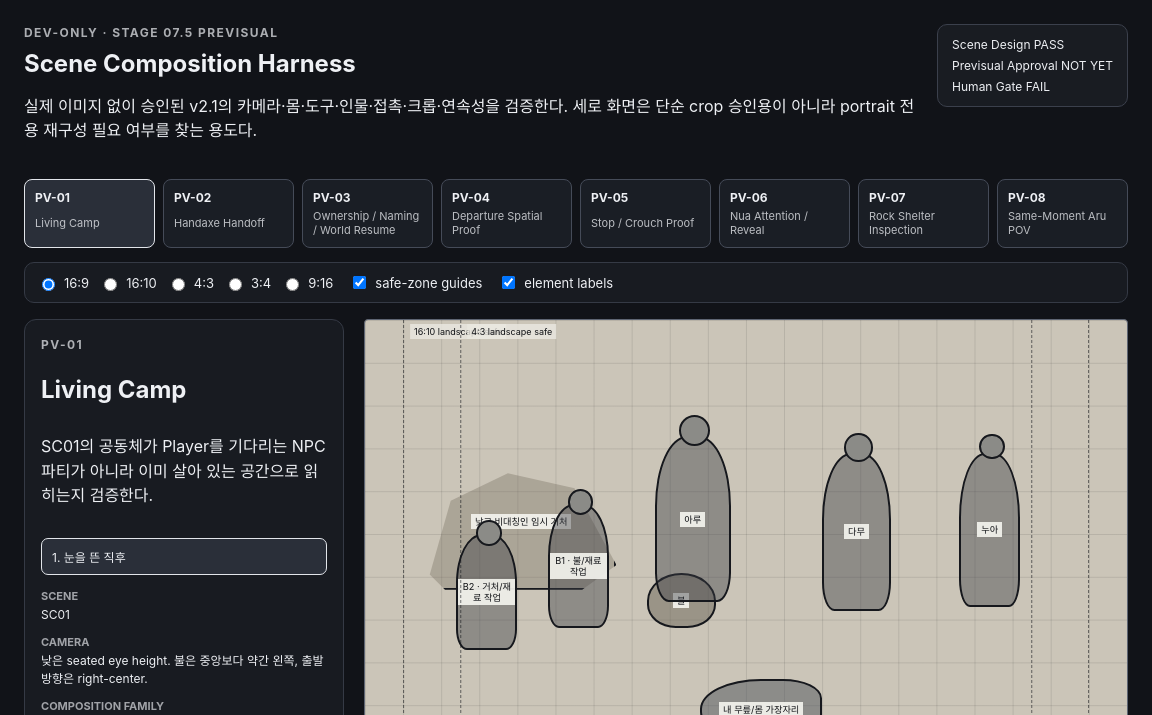
Test case: Stage075PrevisualHarness › keeps Damu stop and player crouch as separate causal frames
The width and height of the screenshot is (1152, 715).
Click the button with test id "previsual-case-PV-05" at {"x": 646, "y": 214}, box [580,179,711,248]
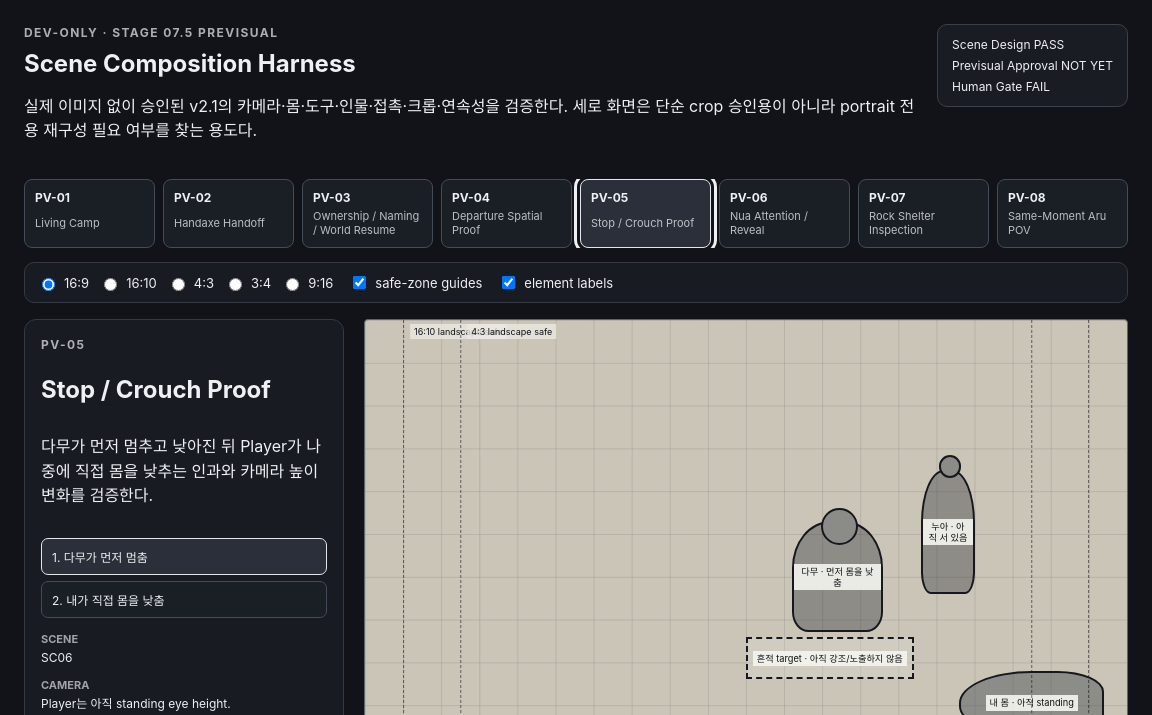
Now the text "Player는 아직 standing eye height." is shown, box [41,696,231,711]
Click the button with test id "previsual-frame-pv05-player-crouch" at {"x": 115, "y": 601}, box [41,581,327,618]
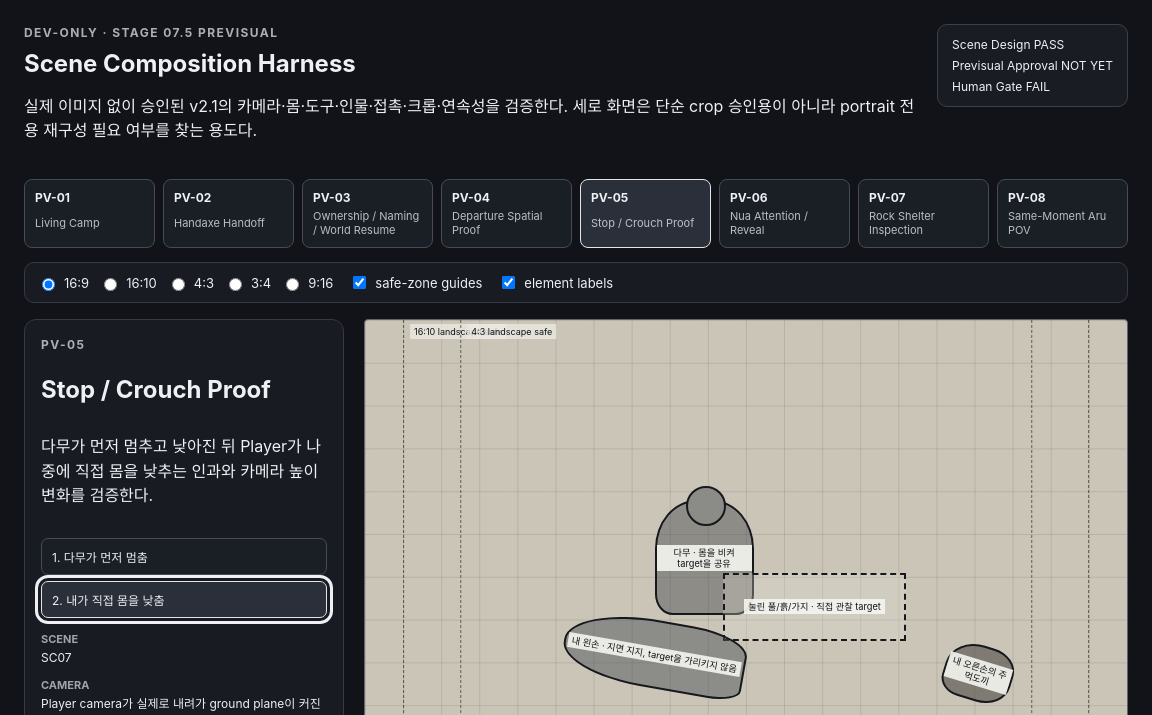
Now the element with test id "previsual-element-player-left-support" is shown, box [559,604,751,704]
Now the element with test id "previsual-element-ground-evidence" is shown, box [723,572,906,641]
